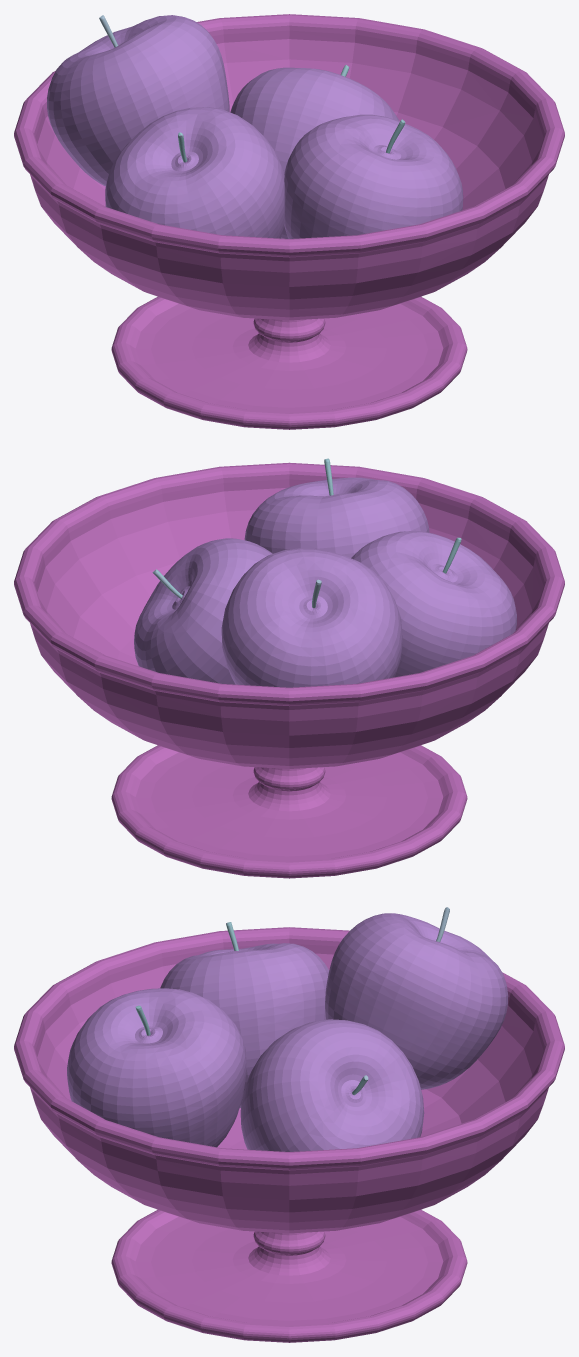
The picture shows the model from 3 angles, top to bottom: view 1: azimuth 30°, elevation 25°; view 2: azimuth 150°, elevation 25°; view 3: azimuth 270°, elevation 25°; orthographic projection.
Parts seen in each view (by area): view 1: world; view 2: world; view 3: world.
Part boxes in pixels (x1,y1,x2,y2): world: (14, 14, 564, 429); world: (14, 458, 564, 878); world: (14, 907, 564, 1342).
Size of the model in its own units: 0.9999 by 0.6225 by 1.
